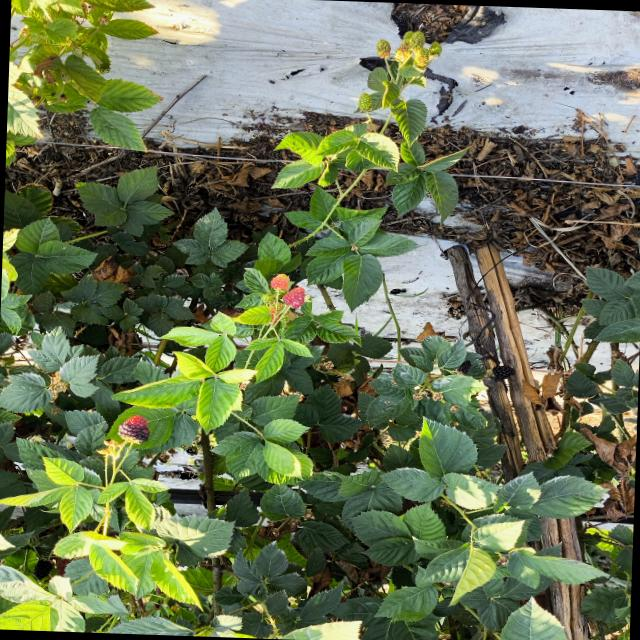marron: (118, 415, 150, 443)
naranja: (283, 286, 305, 308), (270, 274, 290, 290)
verde: (394, 41, 412, 62), (409, 31, 425, 50), (414, 48, 429, 68), (358, 93, 372, 112), (376, 39, 390, 58), (428, 41, 441, 56), (261, 293, 276, 304), (403, 30, 414, 42)
